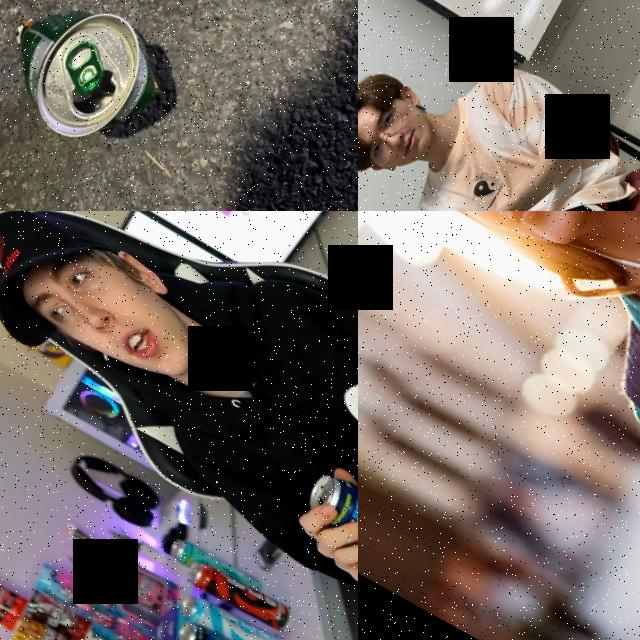can: (187, 558, 296, 634), (165, 534, 268, 605), (300, 464, 358, 586), (182, 590, 297, 640), (173, 614, 300, 640)
